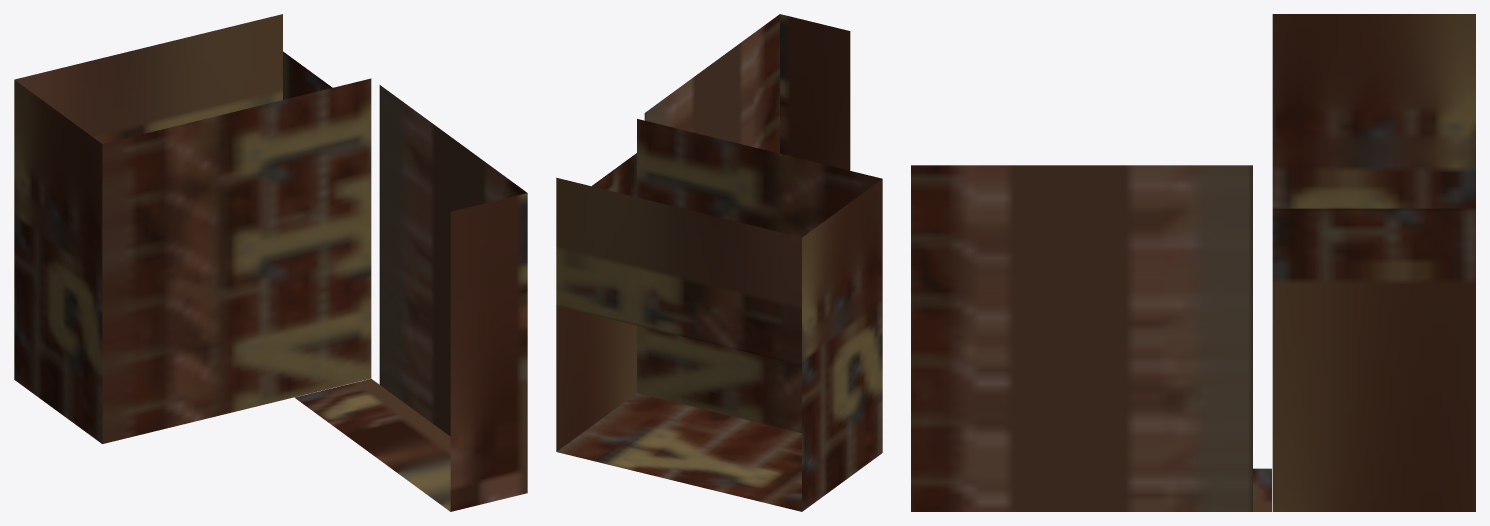
File: section-3.obj
3 renders of one model, left to right at view 1: azimuth 30°, elevation 25°; view 2: azimuth 150°, elevation 25°; view 3: azimuth 270°, elevation 25°, orthographic. The views are drawn at different scales.
Bounding box in the file's own units: 0.763 × 0.814 × 1.2.
